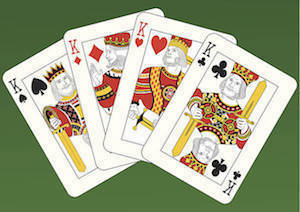KingOfClubs: (171, 35, 299, 203)
KingOfDiamonds: (59, 16, 138, 175)
KingOfHearts: (115, 10, 206, 165)
KingOfSpades: (6, 52, 111, 205)
